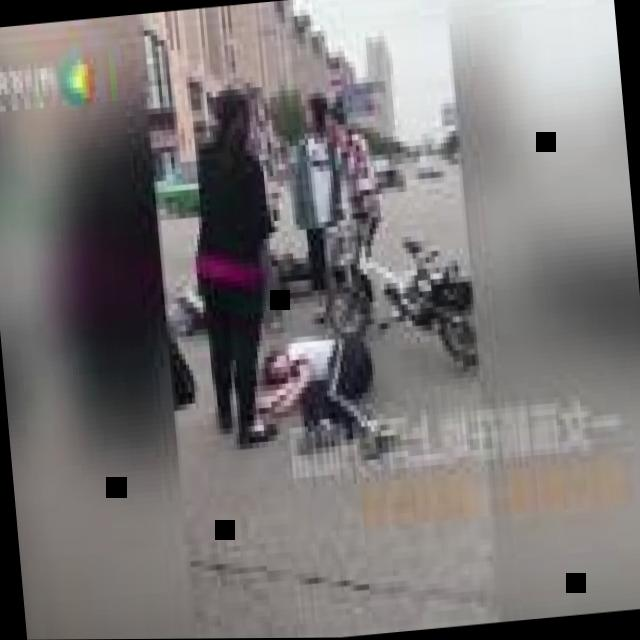Fall-Detected: (256, 294, 408, 469)
